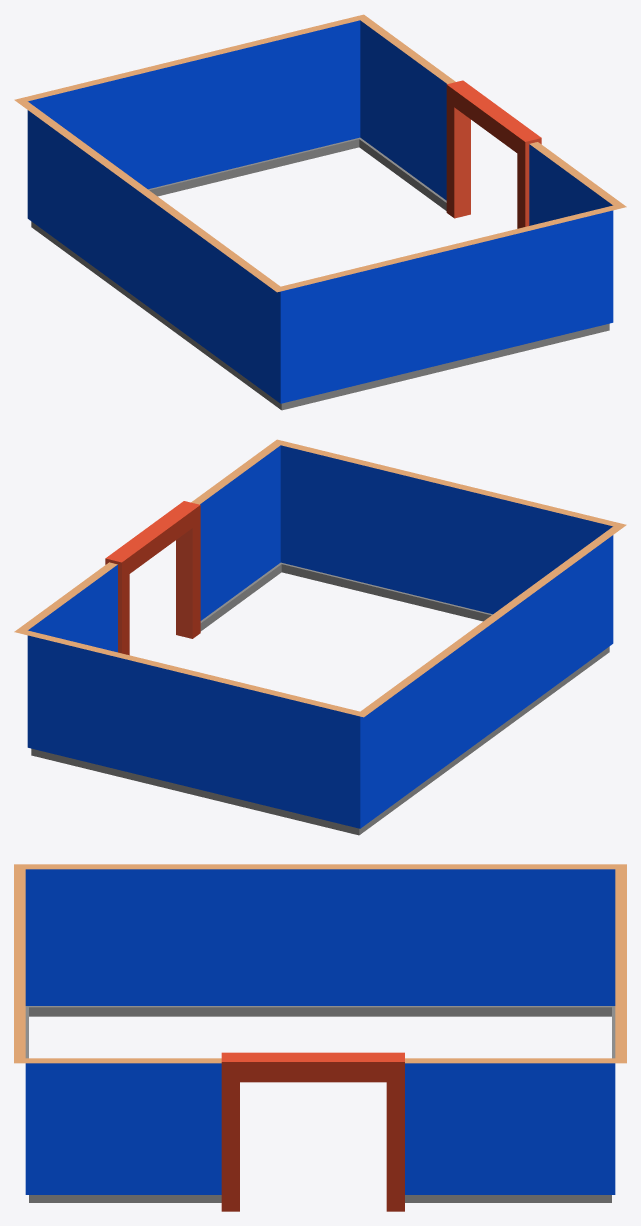
The model's file is Inner Wall.fbx.
The picture shows the model from 3 angles, top to bottom: view 1: azimuth 30°, elevation 25°; view 2: azimuth 150°, elevation 25°; view 3: azimuth 270°, elevation 25°; orthographic projection. The views are drawn at different scales.
Visible parts, largest first — view 1: Inner Wall; view 2: Inner Wall; view 3: Inner Wall.
Part boxes in pixels (box(x1,y1,x2,y2)): Inner Wall: box(14, 14, 626, 410); Inner Wall: box(14, 439, 626, 835); Inner Wall: box(14, 864, 626, 1211).
Size of the model in its own units: 53.3 by 18.47 by 68.62.
